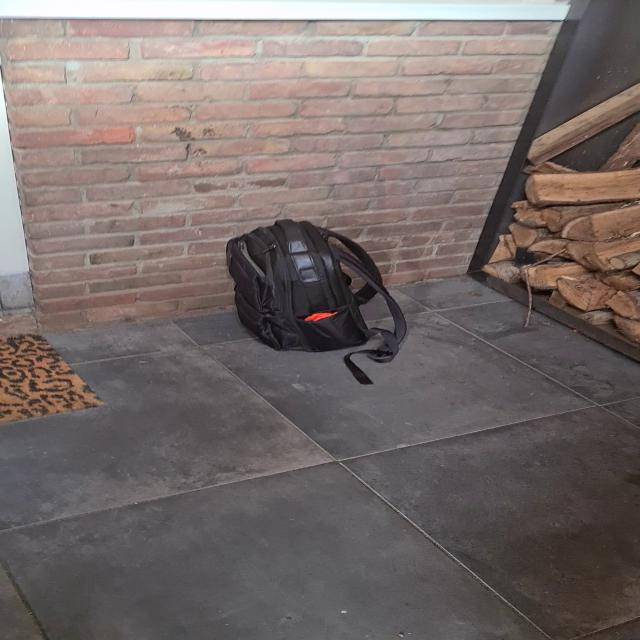backpack: (215, 217, 394, 358)
